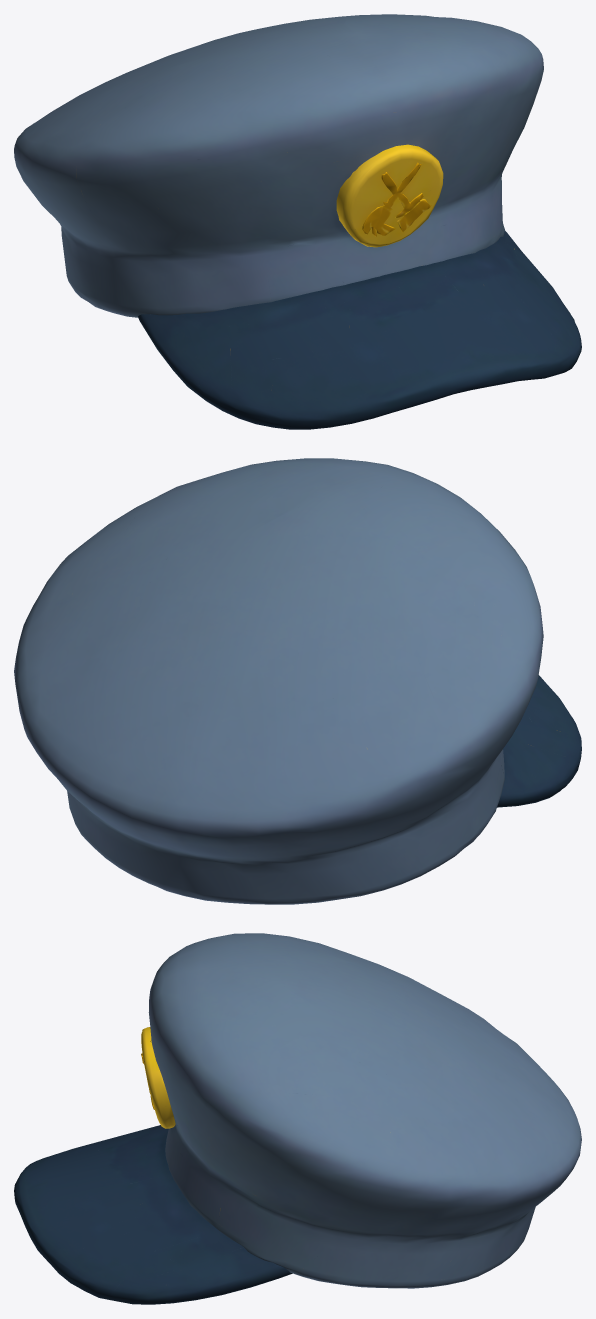
File: hat_janitor.glb
3 renders of one model, top to bottom at view 1: azimuth 30°, elevation 25°; view 2: azimuth 150°, elevation 25°; view 3: azimuth 270°, elevation 25°, orthographic. The views are drawn at different scales.
Visible parts, largest first — view 1: geometry_0; view 2: geometry_0; view 3: geometry_0.
Part boxes in pixels (x1=…): geometry_0: x1=14, y1=14, x2=581, y2=429; geometry_0: x1=14, y1=458, x2=581, y2=904; geometry_0: x1=14, y1=933, x2=581, y2=1304.
Bounding box in the file's own units: 0.8169 × 0.4868 × 0.9565.
Materials: 1 (1 with a texture image).
